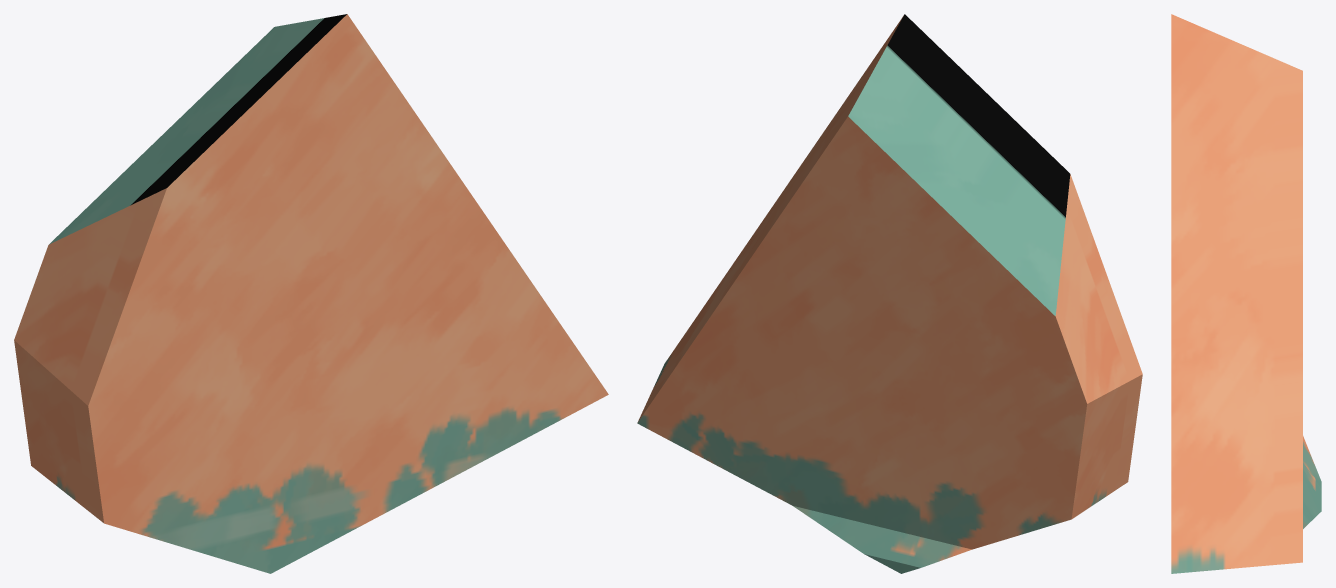
File: wall_plain_s06.fbx
3 renders of one model, left to right at view 1: azimuth 30°, elevation 25°; view 2: azimuth 150°, elevation 25°; view 3: azimuth 270°, elevation 25°, orthographic. The views are drawn at different scales.
Visible parts, largest first — view 1: wall_plain_s06; view 2: wall_plain_s06; view 3: wall_plain_s06.
Part boxes in pixels (bbox=[...]): wall_plain_s06: bbox=[14, 14, 608, 573]; wall_plain_s06: bbox=[637, 14, 1142, 573]; wall_plain_s06: bbox=[1171, 14, 1321, 573].
Size of the model in its own units: 4.52 by 4.43 by 1.14.
